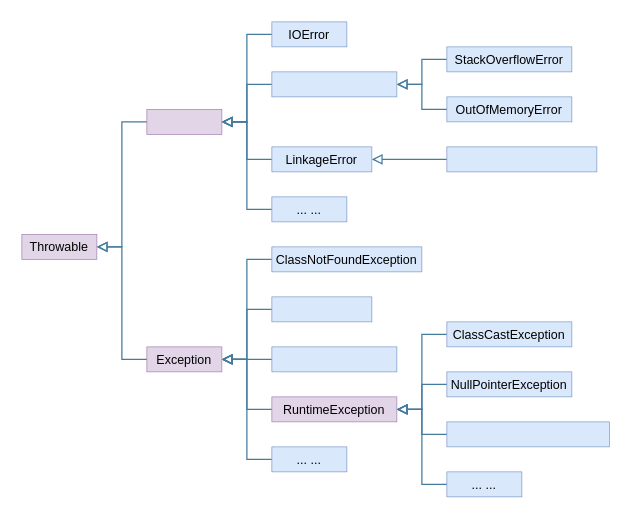
Image size: 631x519. Some labels were removed from this diagram. Each missing label, with the centre of its shape:
"Error" belongs at (184,121).
"IllegalArgumentException" belongs at (527,434).
"InterruptedException" belongs at (334,359).
"IOException" belongs at (321,309).
"NoClassDefFoundError" belongs at (521,159).
"VirtualMachineError" belongs at (334,84).
